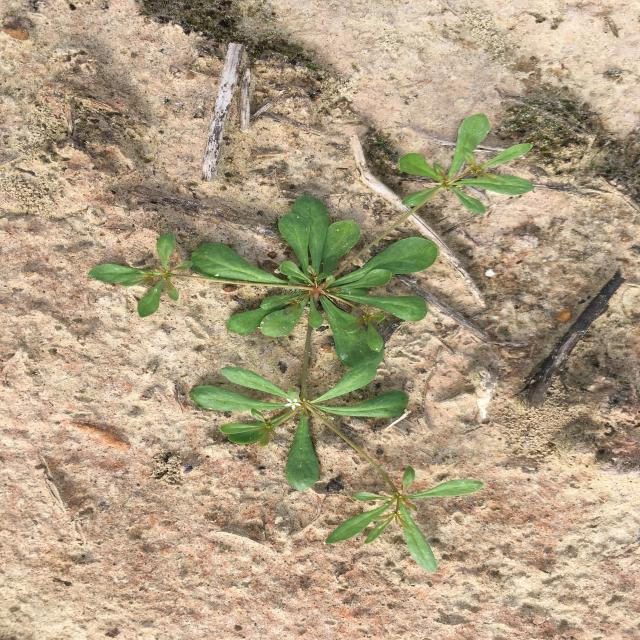Carpetweed: (87, 113, 534, 572)
